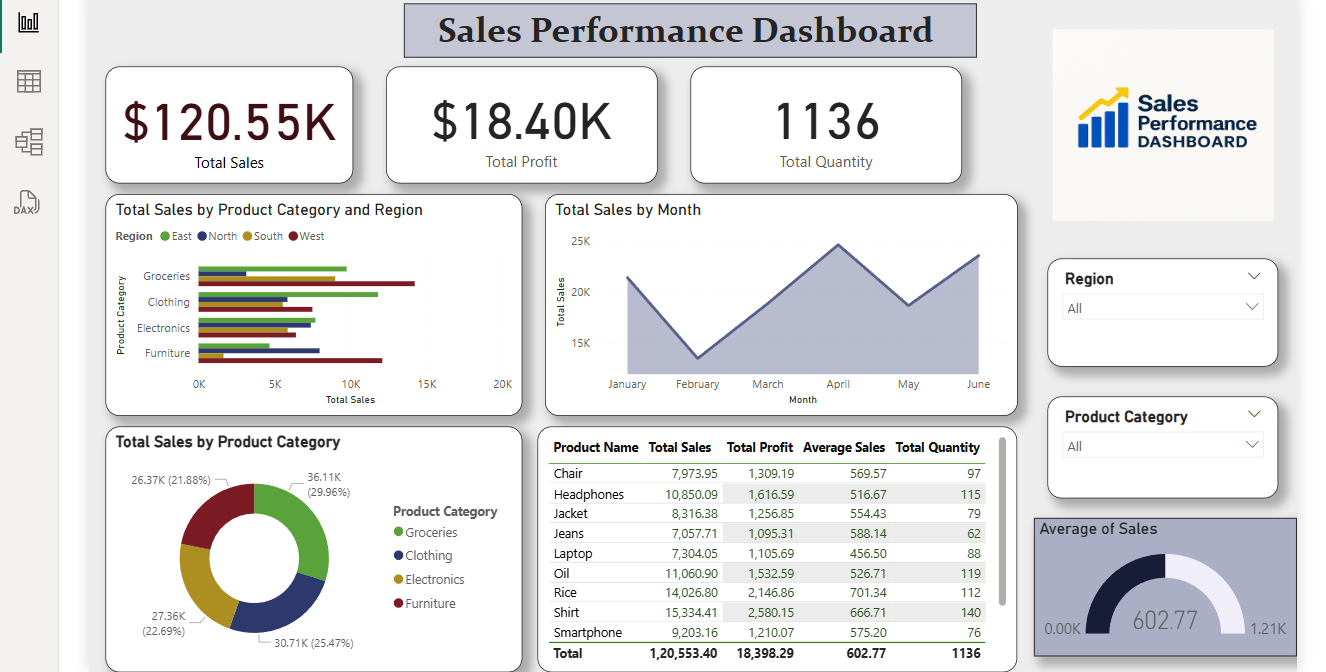

The dashboard page shown, as its layout file describes it:
{"tool":"powerbi","page":{"name":"Page 1","canvas":[1280,720],"ordinal":0},"visuals":[{"type":"card","fields":{"Values":["Sum(Sheet1.Sales)"]},"box":[17.5,77.9,262.5,124.1],"z":0},{"type":"card","fields":{"Values":["Sum(Sheet1.Profit)"]},"box":[314.9,77.9,287.9,124.1],"z":1000},{"type":"card","fields":{"Values":["Sum(Sheet1.Quantity)"]},"box":[637.8,77.9,287.9,124.1],"z":2000},{"type":"clusteredBarChart","fields":{"Category":["Sheet1.Product Category"],"Y":["Sum(Sheet1.Sales)"],"Series":["Sheet1.Region"]},"box":[17.5,213.1,442.2,235.4],"z":3000},{"type":"lineChart","fields":{"Y":["Sum(Sheet1.Sales)"],"Category":["Sheet1.Date.Variation.Date Hierarchy.Month"]},"box":[483.5,213.1,501,235.4],"z":4000},{"type":"tableEx","fields":{"Values":["Sheet1.Product Name","Sum(Sheet1.Sales)","Sum(Sheet1.Profit)","Avg(Sheet1.Sales)","Sum(Sheet1.Quantity)"]},"box":[475.6,459.7,509,260.9],"z":5000},{"type":"slicer","fields":{"Values":["Sheet1.Product Category"]},"box":[1016.4,427.9,245,108.2],"z":6000},{"type":"slicer","fields":{"Values":["Sheet1.Region"]},"box":[1016.4,281.5,245,114.5],"z":7000},{"type":"donutChart","title":"Total Sales by Product Category","fields":{"Category":["Sheet1.Product Category"],"Y":["Sum(Sheet1.Sales)"]},"box":[17.5,459.7,442.2,260.9],"z":8000},{"type":"textbox","box":[334,11.1,607.6,57],"z":8001},{"type":"image","box":[1016.4,33.4,245,213.1],"z":8002},{"type":"gauge","fields":{"Y":["Avg(Sheet1.Sales)"]},"box":[1002.1,556.7,278.4,146.3],"z":8003}]}

Visuals, with their boxes on the page's 1280x720 design canvas (x1, y1, x2, y2). These are canvas units, not pixel positions in the 1326x672 screenshot, which may show the page scaled, cropped or inside an application window:
card - Sum(Sheet1.Sales): bbox(18, 78, 280, 202)
card - Sum(Sheet1.Profit): bbox(315, 78, 603, 202)
card - Sum(Sheet1.Quantity): bbox(638, 78, 926, 202)
clusteredBarChart - Sheet1.Product Category x Sum(Sheet1.Sales): bbox(18, 213, 460, 448)
lineChart - Sum(Sheet1.Sales) x Sheet1.Date.Variation.Date Hierarchy.Month: bbox(484, 213, 984, 448)
tableEx - Sheet1.Product Name x Sum(Sheet1.Sales): bbox(476, 460, 985, 721)
slicer - Sheet1.Product Category: bbox(1016, 428, 1261, 536)
slicer - Sheet1.Region: bbox(1016, 282, 1261, 396)
"Total Sales by Product Category" donutChart: bbox(18, 460, 460, 721)
textbox: bbox(334, 11, 942, 68)
image: bbox(1016, 33, 1261, 246)
gauge - Avg(Sheet1.Sales): bbox(1002, 557, 1280, 703)
